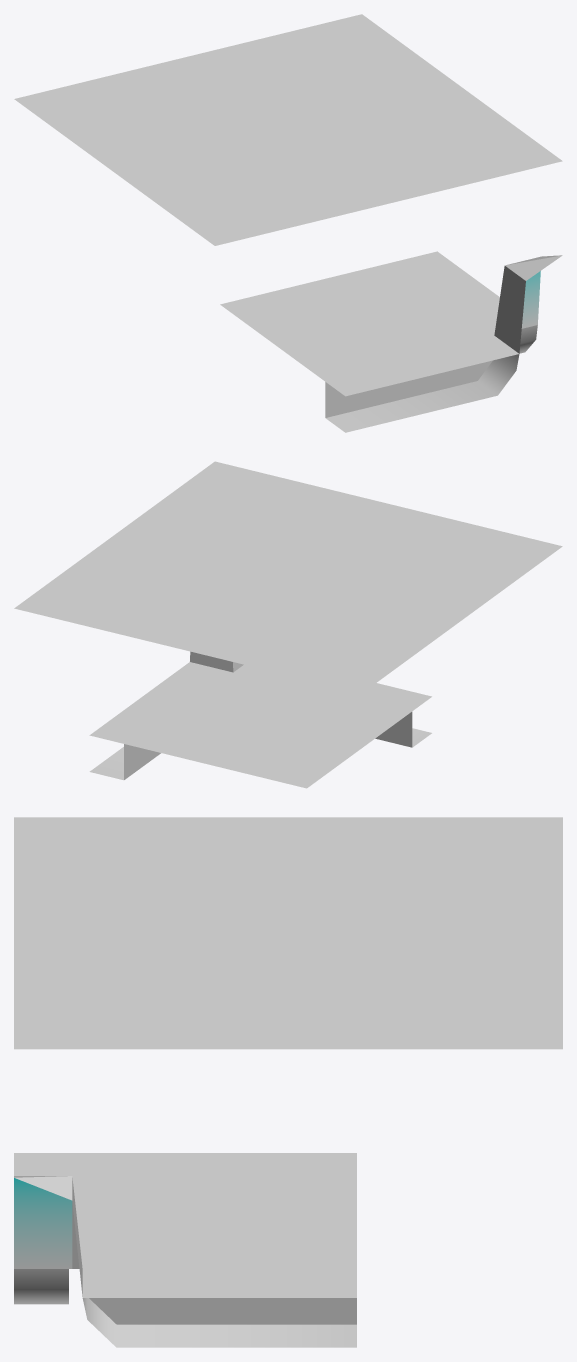
File: SM_CorniceACornerInner1m.fbx
3 renders of one model, top to bottom at view 1: azimuth 30°, elevation 25°; view 2: azimuth 150°, elevation 25°; view 3: azimuth 270°, elevation 25°, orthographic. The views are drawn at different scales.
Visible parts, largest first — view 1: SM_CorniceACornerInner1m; view 2: SM_CorniceACornerInner1m; view 3: SM_CorniceACornerInner1m.
Boxes of the visible parts, x1,y1,x2,y2 form: SM_CorniceACornerInner1m: (14, 14, 562, 432); SM_CorniceACornerInner1m: (14, 461, 562, 788); SM_CorniceACornerInner1m: (14, 817, 562, 1347).
Bounding box in the file's own units: 100 × 60 × 100.
